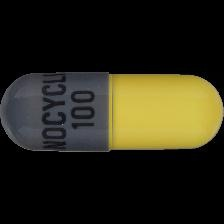55289-201: (0, 0, 224, 224)
